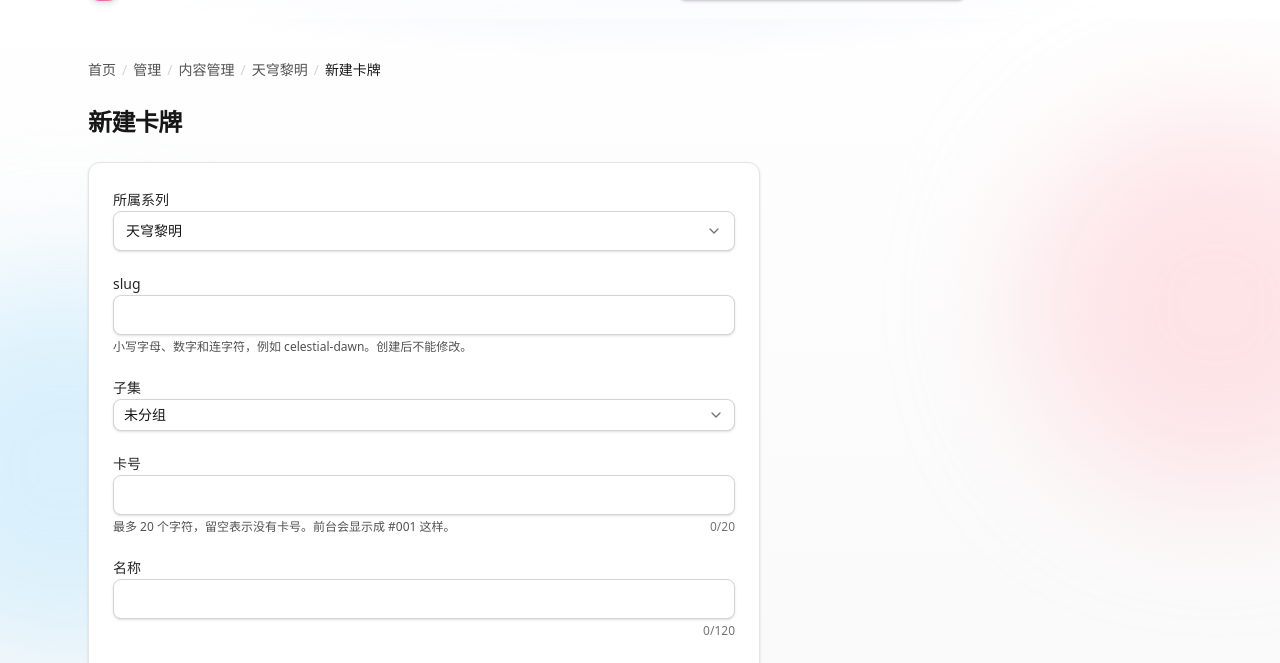
card form server validation › shows a nested zod path from the server message
The width and height of the screenshot is (1280, 663).
In the field labelled "slug": [424, 315] box [113, 295, 735, 335], type "aurora-knight"
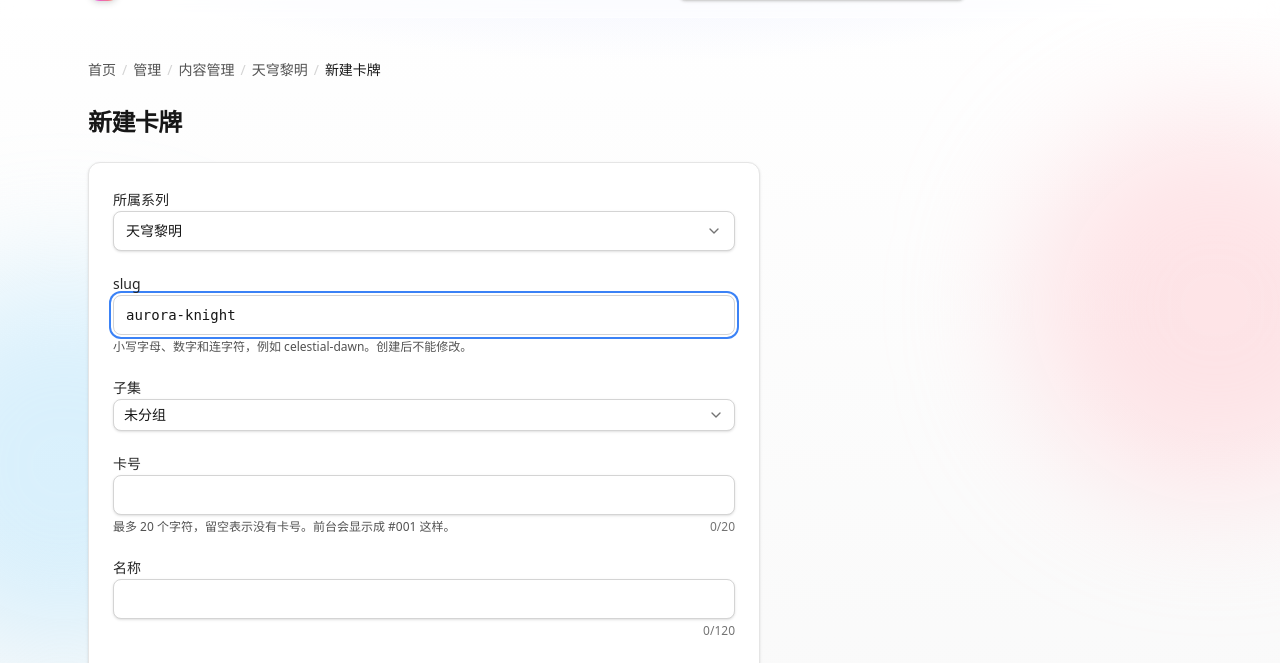
In the field labelled "名称": [424, 599] box [113, 579, 735, 619], type "极光骑士"
(page scrolled)
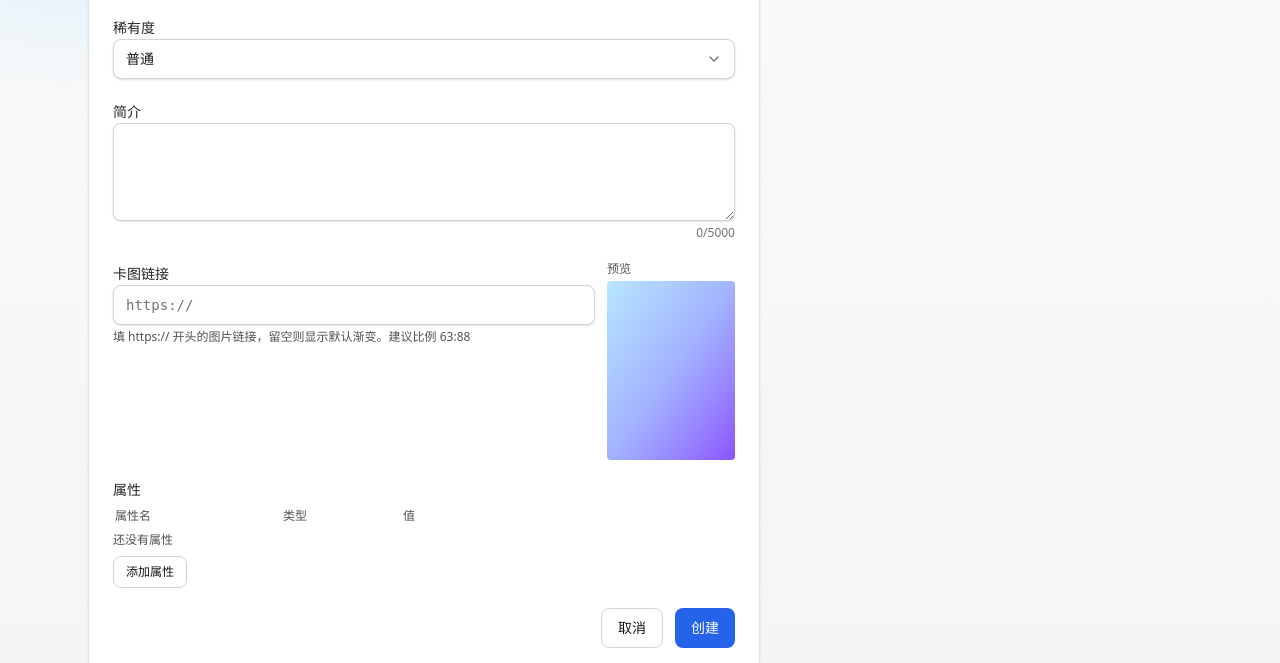
Click the button "创建": [705, 628] box [675, 608, 735, 648]
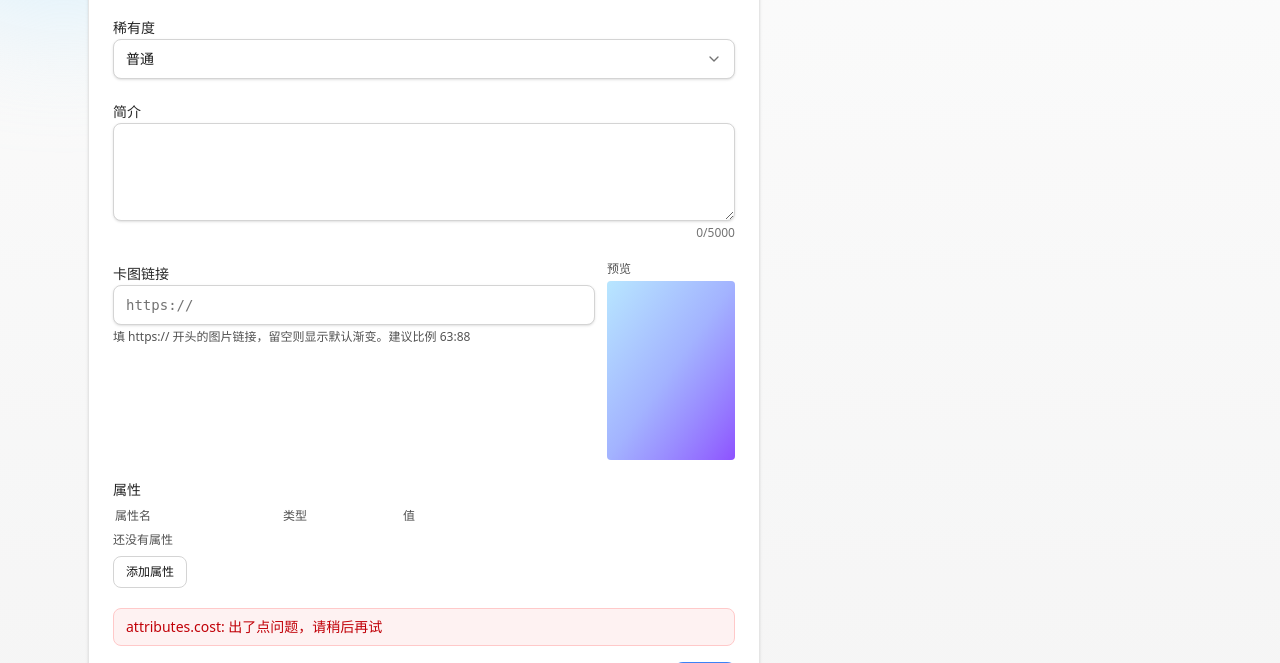
Check: the message reads "attributes.cost: 出了点问题，请稍后再试", box [126, 617, 382, 636]
